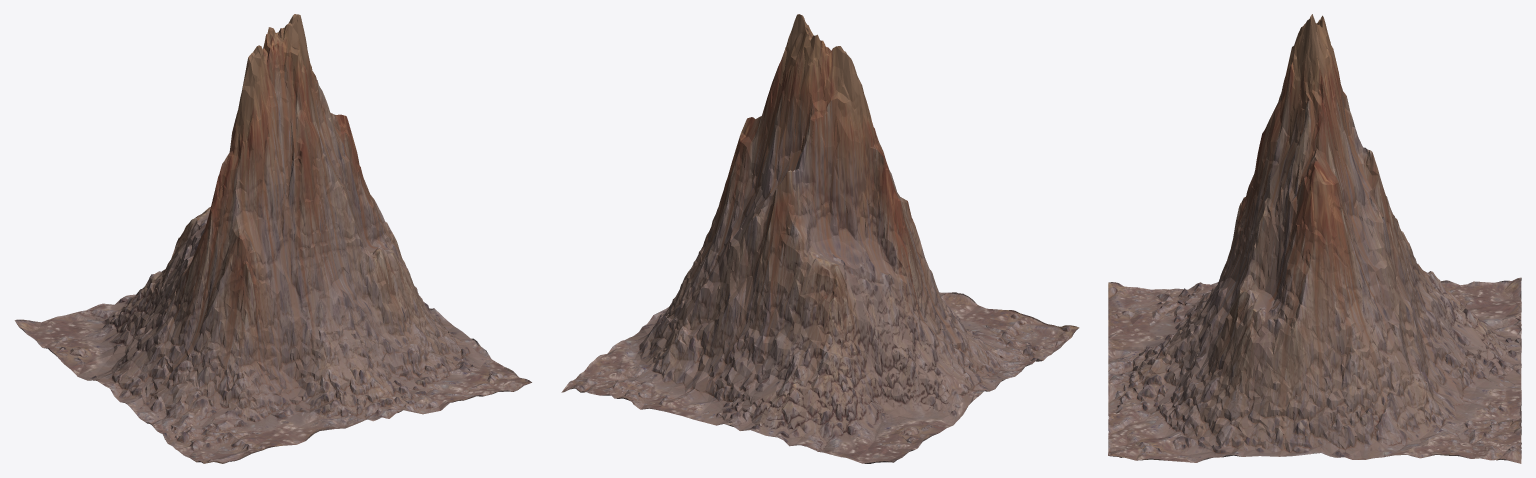
The model's file is montana_03.obj.
3 views of the same model, side by side, from view 1: azimuth 30°, elevation 25°; view 2: azimuth 150°, elevation 25°; view 3: azimuth 270°, elevation 25° (orthographic). The views are drawn at different scales.
Parts seen in each view (by area): view 1: montana_rocosa_03; view 2: montana_rocosa_03; view 3: montana_rocosa_03.
Boxes of the visible parts, box(x1,y1,x2,y2) form: montana_rocosa_03: box(14, 14, 531, 463); montana_rocosa_03: box(561, 14, 1079, 463); montana_rocosa_03: box(1108, 14, 1521, 463).
Size of the model in its own units: 1 by 1 by 1.
1 material, 1 textured.
